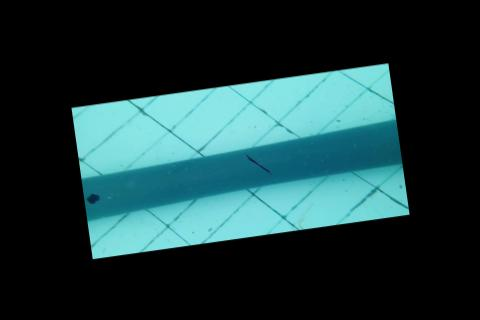kebocoran: (84, 190, 102, 205)
keretakan: (242, 148, 273, 178)
